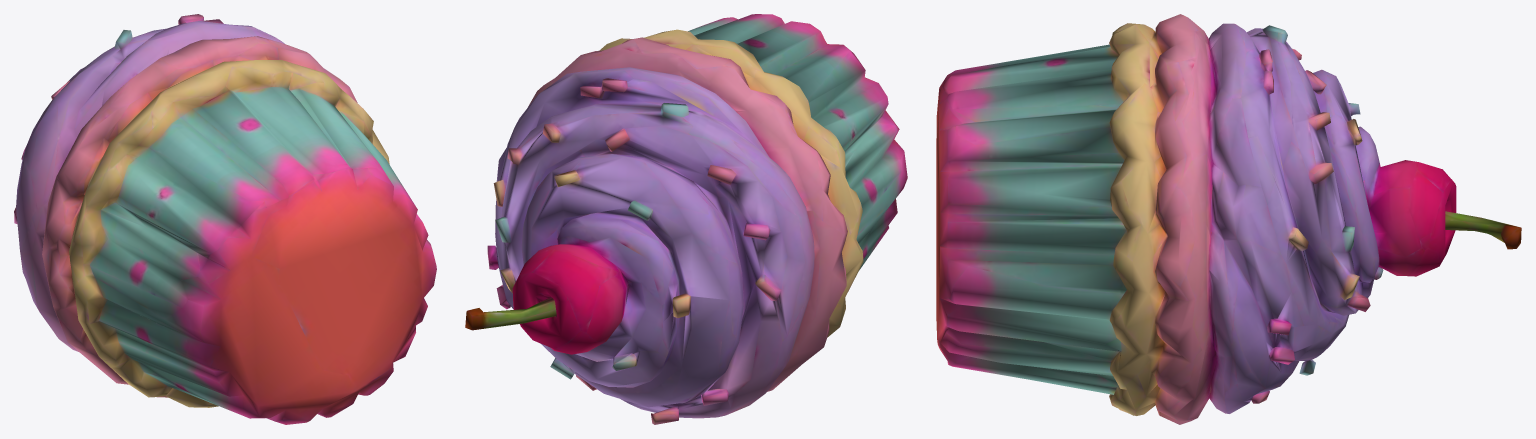
3 views of the same model, side by side, from view 1: azimuth 30°, elevation 25°; view 2: azimuth 150°, elevation 25°; view 3: azimuth 270°, elevation 25° (orthographic). The views are drawn at different scales.
Parts seen in each view (by area): view 1: material; view 2: material; view 3: material.
Part boxes in pixels (left/top/right/bottom): material: left=14, top=14, right=436, bottom=424; material: left=465, top=14, right=907, bottom=424; material: left=936, top=14, right=1521, bottom=424.
Bounding box in the file's own units: 0.6916 × 0.6934 × 1.
Materials: 1 (1 with a texture image).
